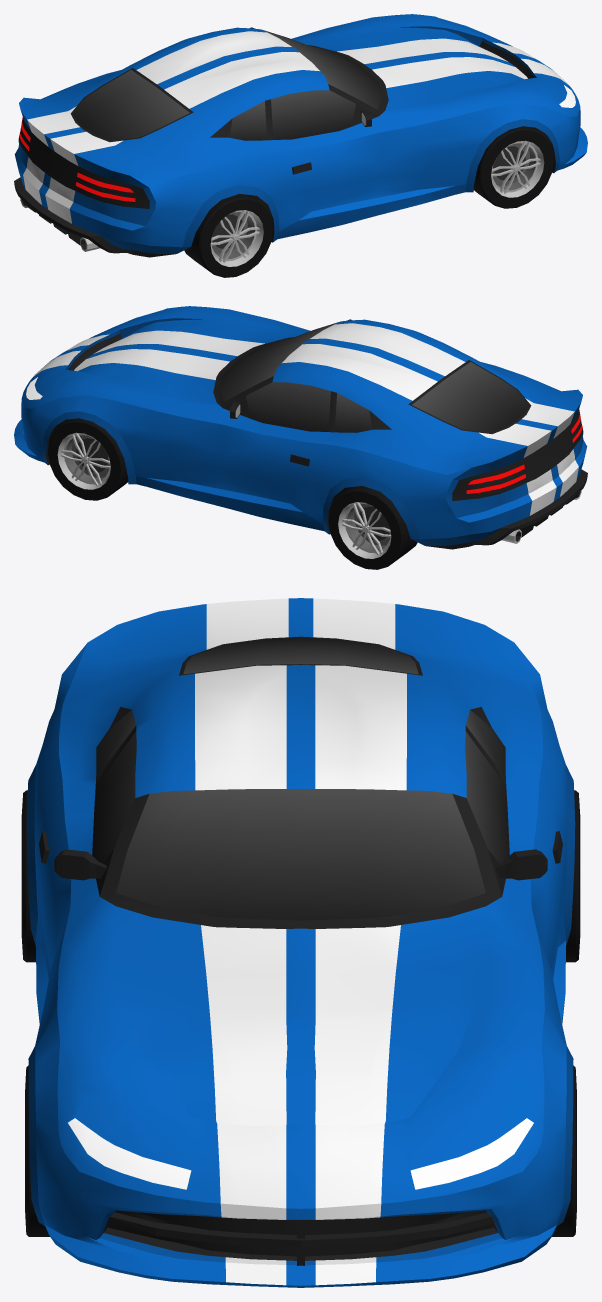
File: Car_141.glb
The picture shows the model from 3 angles, top to bottom: view 1: azimuth 30°, elevation 25°; view 2: azimuth 150°, elevation 25°; view 3: azimuth 270°, elevation 25°; orthographic projection. The views are drawn at different scales.
Parts seen in each view (by area): view 1: Car_141, wheel_3_Car_141_Wheel_2R, wheel_1_Car_141_Wheel_1R; view 2: Car_141, wheel_2_Car_141_Wheel_2L, wheel_0_Car_141_Wheel_1L; view 3: Car_141, wheel_2_Car_141_Wheel_2L, wheel_3_Car_141_Wheel_2R, wheel_0_Car_141_Wheel_1L, wheel_1_Car_141_Wheel_1R.
Boxes of the visible parts, x1,y1,x2,y2 form: Car_141: (14,14,587,257); wheel_3_Car_141_Wheel_2R: (184,194,273,277); wheel_1_Car_141_Wheel_1R: (473,126,554,208); Car_141: (14,306,587,549); wheel_2_Car_141_Wheel_2L: (328,486,417,569); wheel_0_Car_141_Wheel_1L: (47,418,128,500); Car_141: (26,598,575,1287); wheel_2_Car_141_Wheel_2L: (566,790,580,962); wheel_3_Car_141_Wheel_2R: (21,790,35,962); wheel_0_Car_141_Wheel_1L: (552,1065,576,1236); wheel_1_Car_141_Wheel_1R: (25,1065,49,1236).
Size of the model in its own units: 4.59 by 1.3 by 2.13.
Materials: 2 (2 with a texture image).
